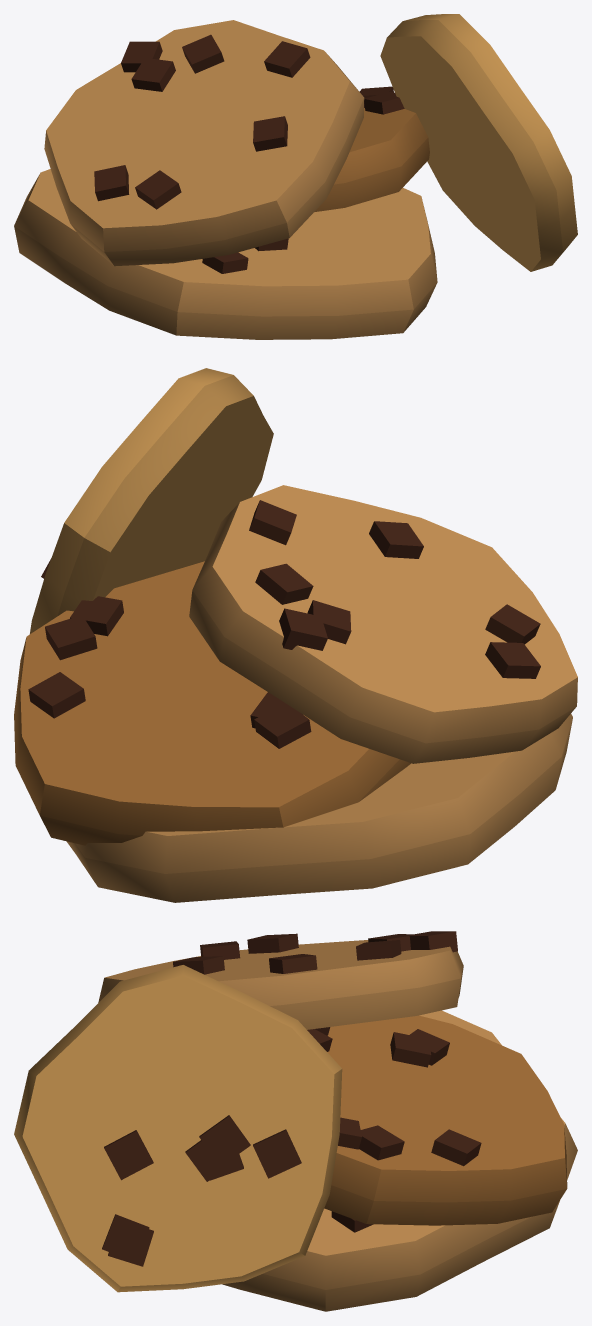
File: cookie_rock.glb
The picture shows the model from 3 angles, top to bottom: view 1: azimuth 30°, elevation 25°; view 2: azimuth 150°, elevation 25°; view 3: azimuth 270°, elevation 25°; orthographic projection. The views are drawn at different scales.
Parts seen in each view (by area): view 1: cookie_rock; view 2: cookie_rock; view 3: cookie_rock.
Boxes of the visible parts, left/top/right/bottom form: cookie_rock: left=14, top=14, right=577, bottom=339; cookie_rock: left=14, top=368, right=577, bottom=902; cookie_rock: left=14, top=931, right=577, bottom=1311.
Size of the model in its own units: 1.38 by 0.882 by 1.39.
